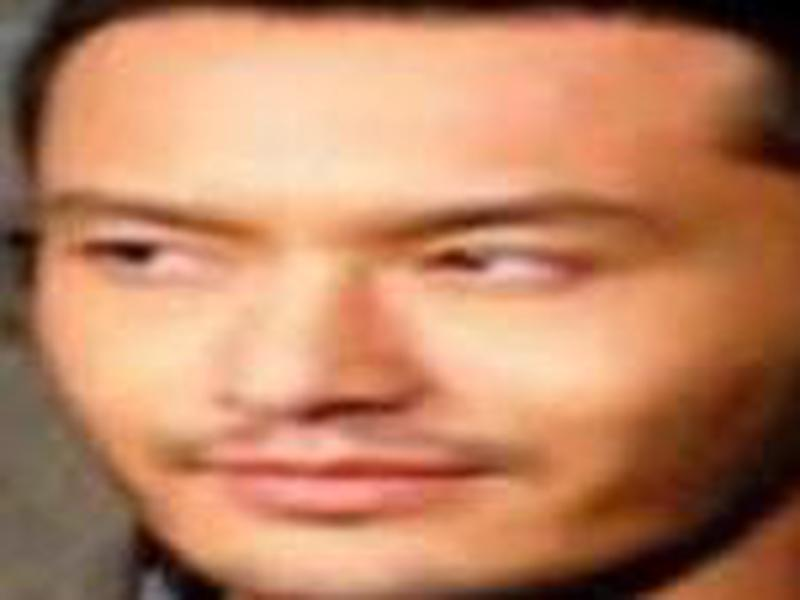without_mask: (29, 16, 780, 597)
